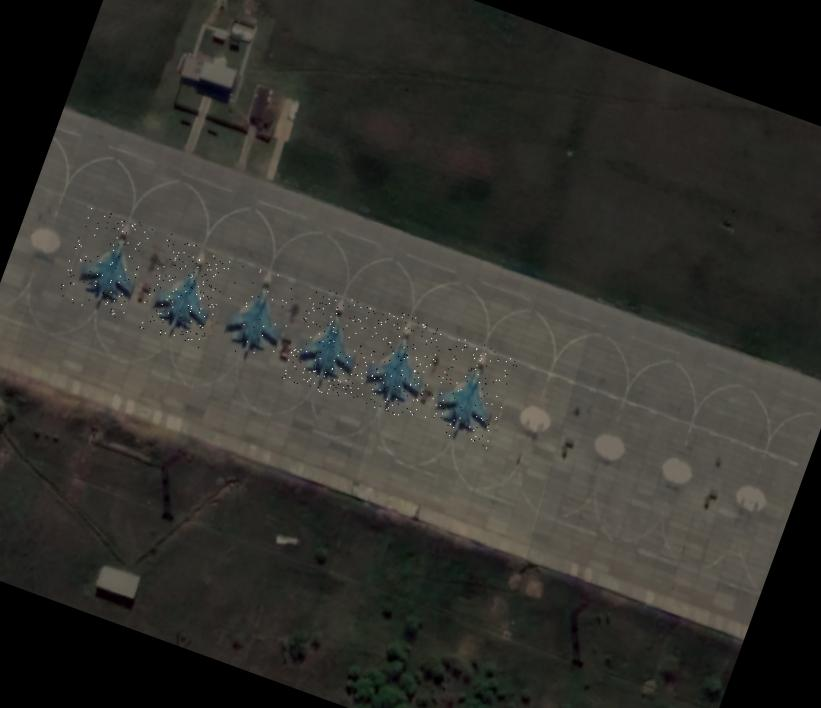A19: (55, 204, 155, 321), (135, 233, 235, 350), (204, 254, 304, 371), (280, 285, 380, 402), (348, 306, 448, 422), (420, 334, 520, 450)
